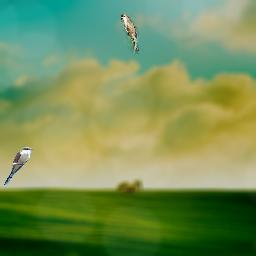Cuckoo: (4, 147, 33, 185), (121, 14, 139, 54)
